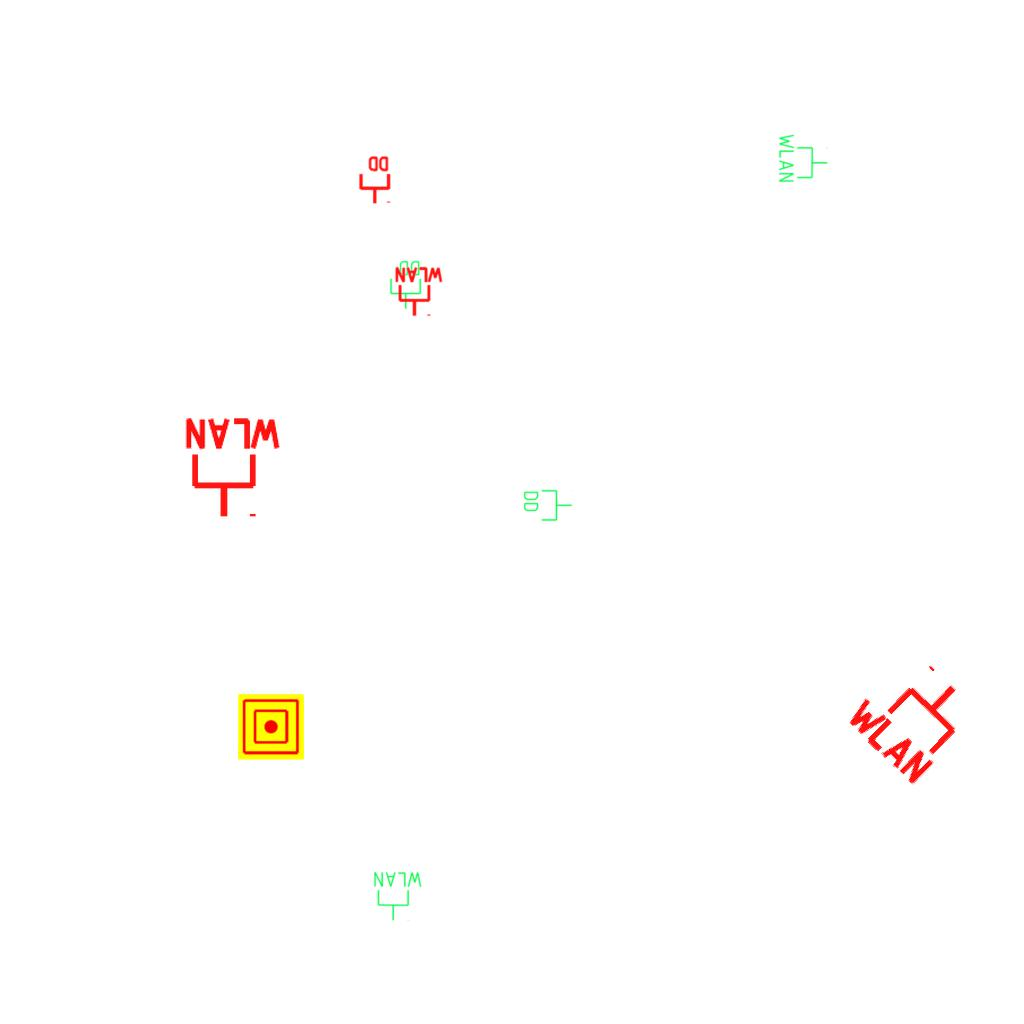Datenanschluss_zweifach: (389, 259, 423, 310), (357, 154, 391, 205), (522, 488, 573, 522)
NAM-Nichtautomatischer_Melder: (238, 694, 304, 760)
WLAN: (839, 642, 988, 790), (181, 416, 285, 521), (777, 132, 829, 184), (372, 870, 424, 922), (393, 266, 445, 318)
